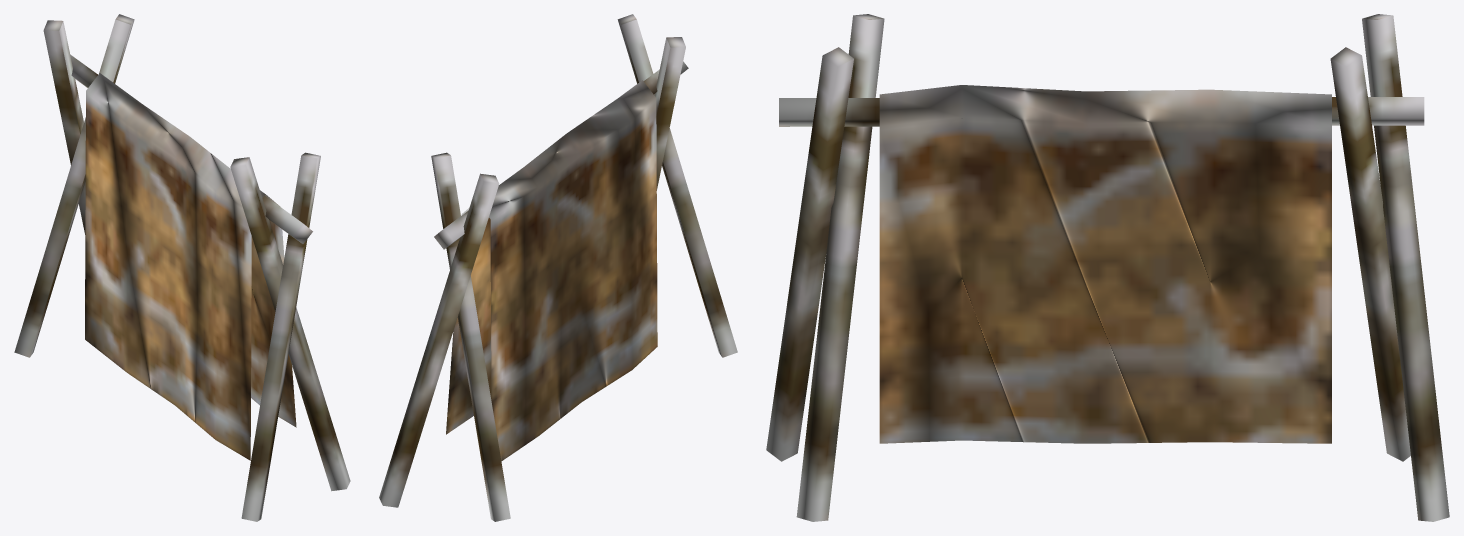
The model's file is nsm-general_obj_02.glb.
3 renders of one model, left to right at view 1: azimuth 30°, elevation 25°; view 2: azimuth 150°, elevation 25°; view 3: azimuth 270°, elevation 25°, orthographic. The views are drawn at different scales.
Visible parts, largest first — view 1: Mesh01; view 2: Mesh01; view 3: Mesh01.
Part boxes in pixels (x1,y1,x2,y2): Mesh01: (14,14,350,521); Mesh01: (379,14,737,521); Mesh01: (766,14,1449,521).
Size of the model in its own units: 1 by 2.66 by 3.61.
1 material, 1 textured.
